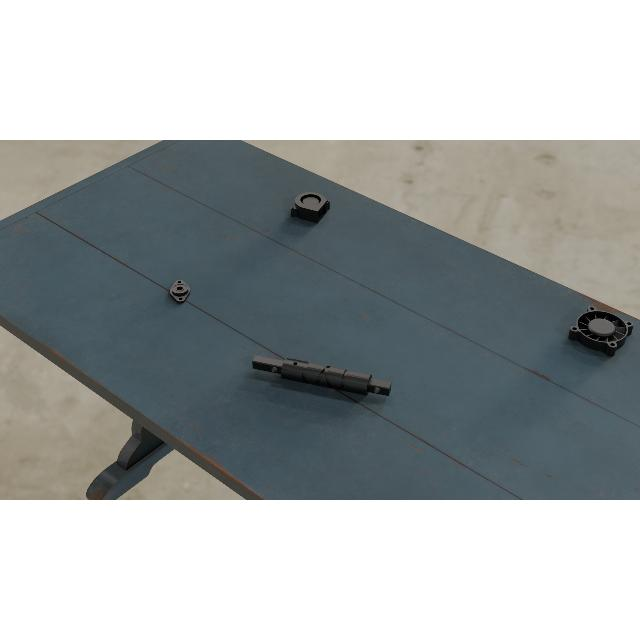Pieza1: (251, 348, 394, 404)
Pieza2: (169, 278, 191, 304)
Pieza3: (289, 190, 331, 224)
Pieza4: (566, 305, 636, 359)
